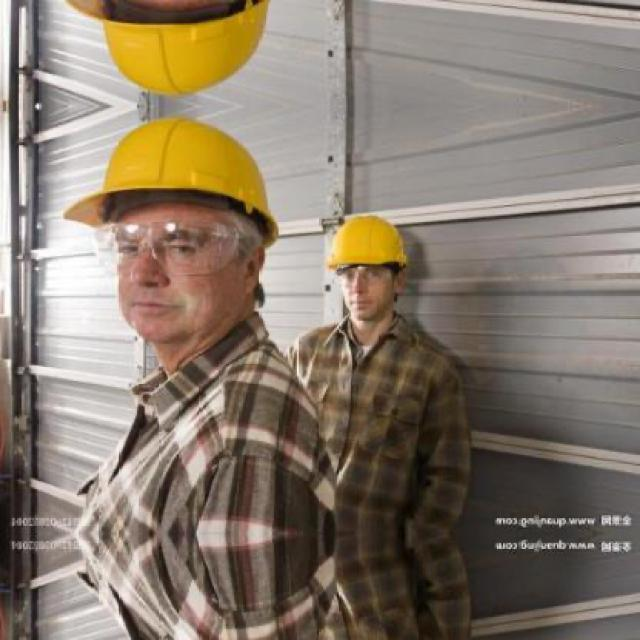helmet: (61, 106, 294, 362), (62, 0, 296, 108), (316, 198, 418, 336)
